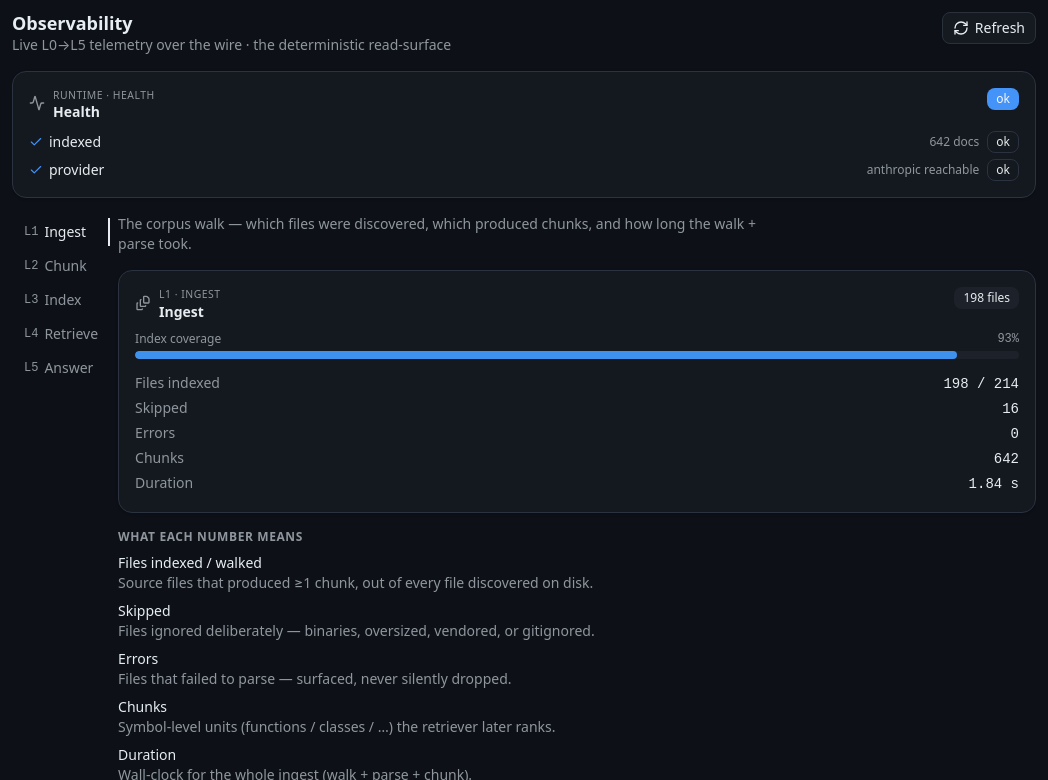
it: ObservabilityTab › renders per-layer telemetry from /stats (L1→L5 cards, via sub-tabs)
Expected: the text "198 / 214" is shown, [943, 374, 1019, 394]
// navigating to another layer's sub-tab surfaces that layer's telemetry
Click the tab "L3 Index" at (61, 300), box [15, 285, 107, 315]
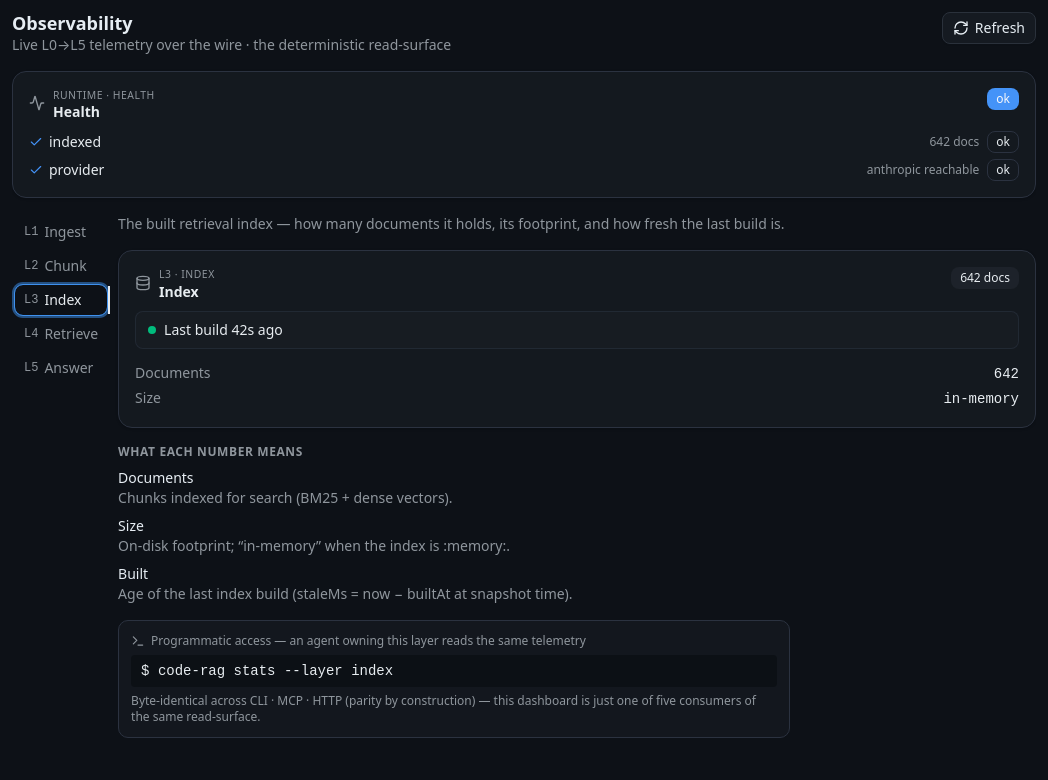
Expected: the text "in-memory" is shown, [943, 389, 1019, 409]
Click the tab "L5 Answer" at (61, 368), box [15, 353, 107, 383]
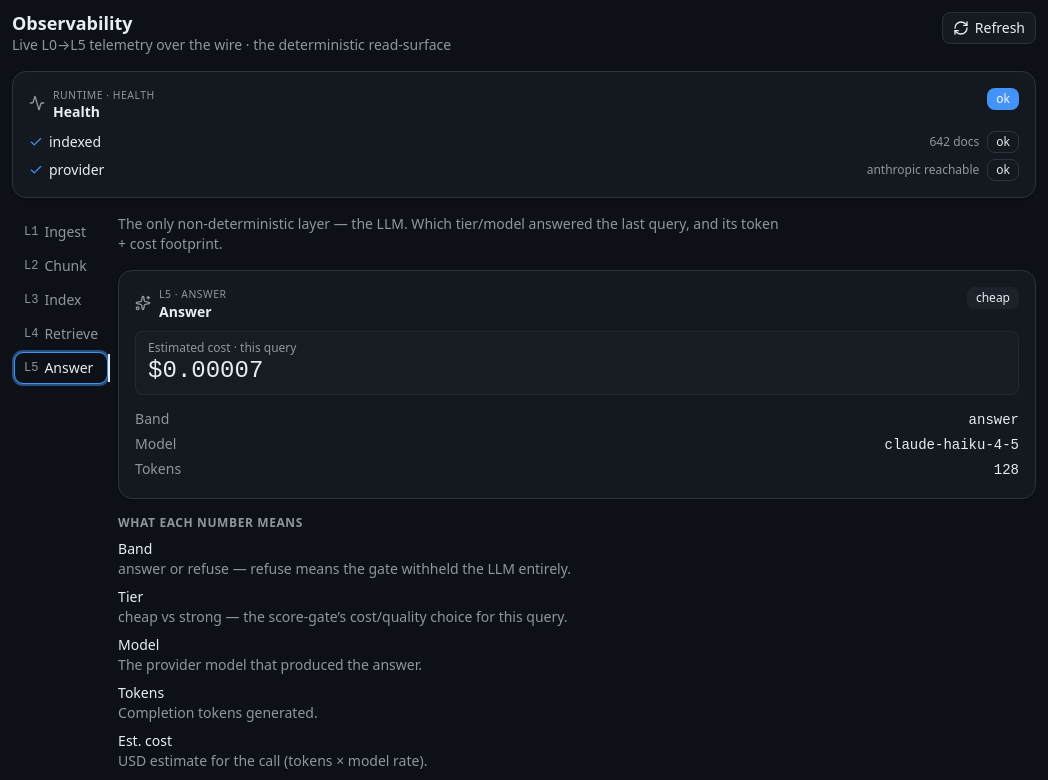
Expected: the text "claude-haiku-4-5" is shown, [885, 435, 1019, 455]
Expected: the text "$0.00007" is shown, [148, 357, 263, 384]
